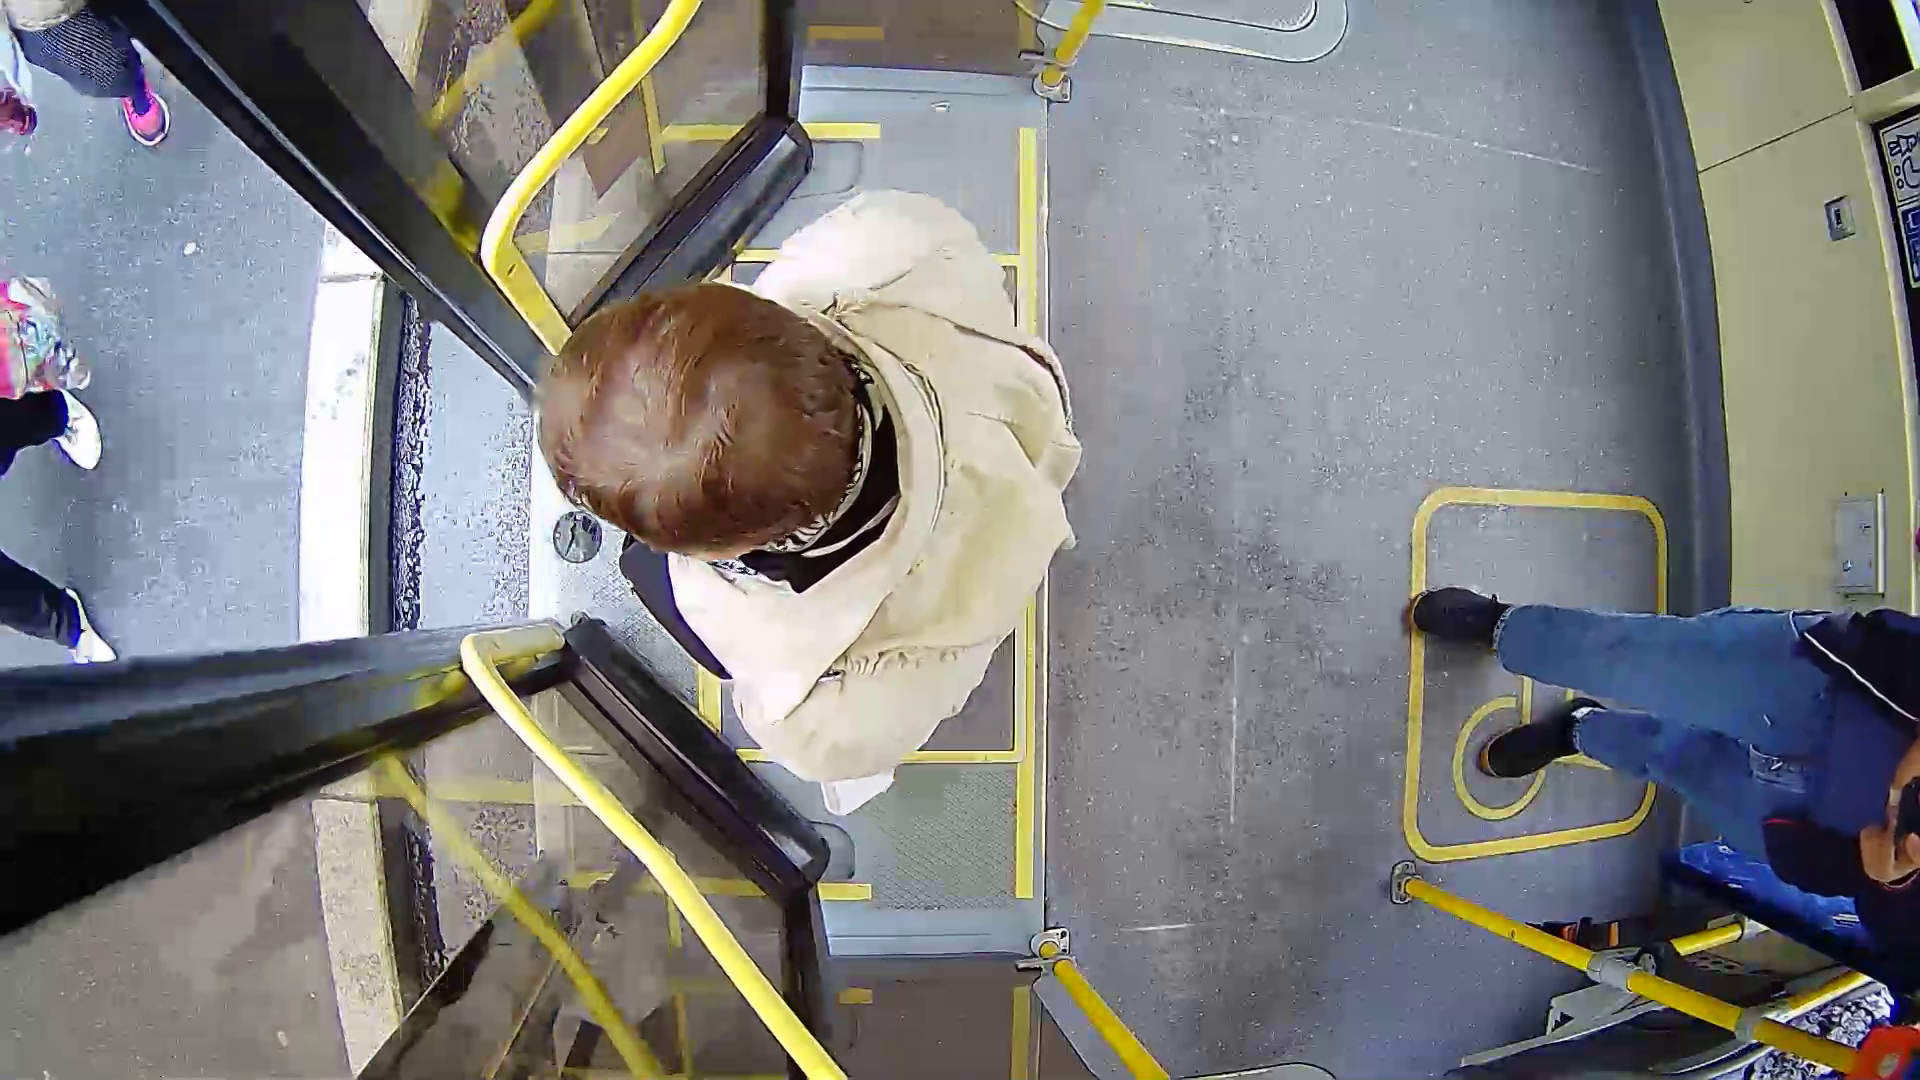person: (491, 196, 1245, 808)
